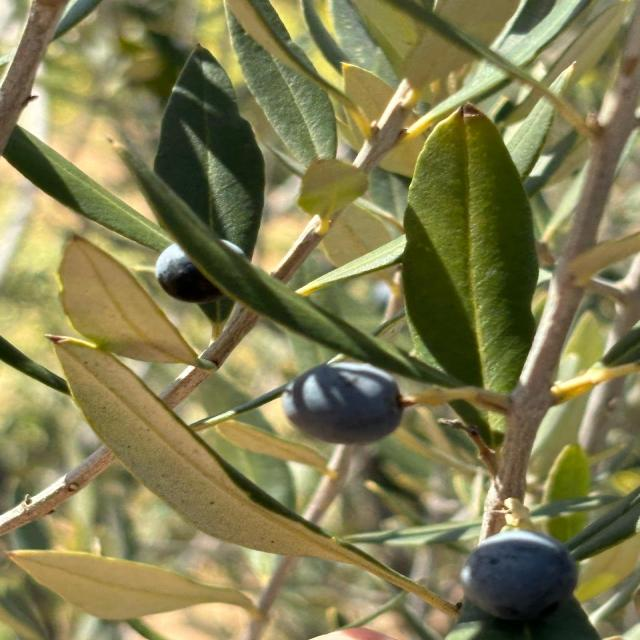Healthy: (49, 336, 432, 600), (59, 235, 217, 376), (6, 550, 258, 621), (461, 530, 577, 624), (281, 362, 405, 445)
